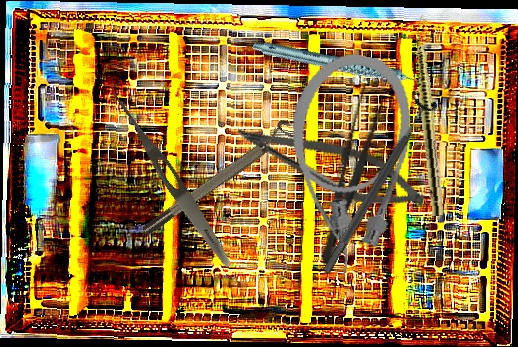Cannula: (268, 45, 423, 283)
Dressing Forceps: (103, 85, 237, 271), (310, 81, 390, 270)
Fixation Ring: (311, 88, 441, 281), (135, 117, 300, 239)
Handpiece: (251, 6, 431, 127), (410, 14, 447, 217)
Micro Scissor: (227, 113, 433, 221)
